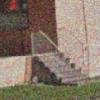stairs: (31, 49, 95, 87)
